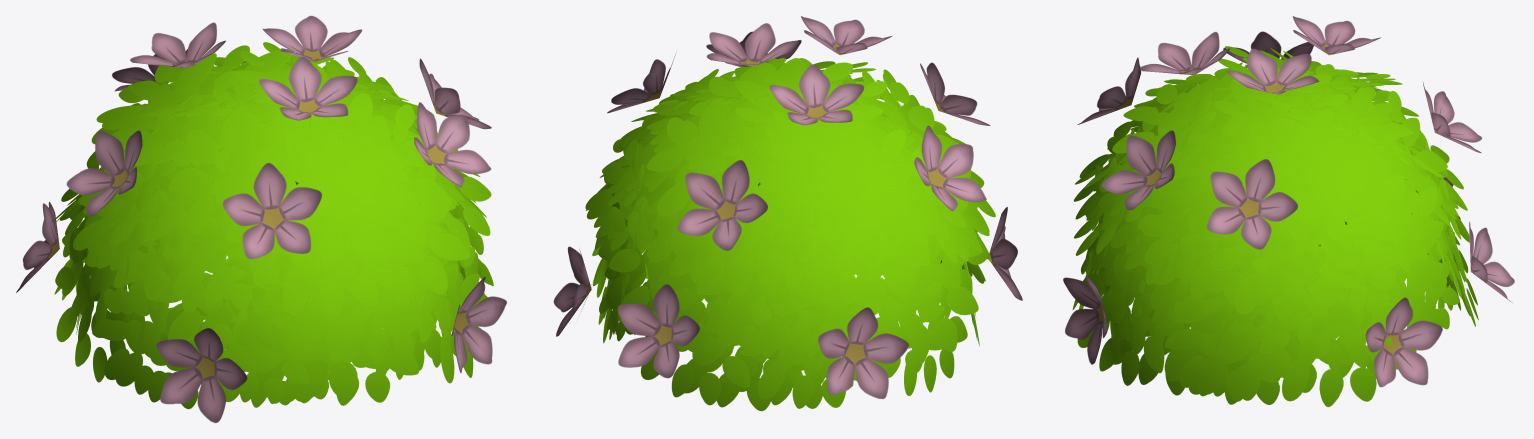
Rendered from estilizada-Bush_Flowers.glb.
3 views of the same model, side by side, from view 1: azimuth 30°, elevation 25°; view 2: azimuth 150°, elevation 25°; view 3: azimuth 270°, elevation 25° (orthographic). The views are drawn at different scales.
Visible parts, largest first — view 1: Bush_Flowers; view 2: Bush_Flowers; view 3: Bush_Flowers.
Boxes of the visible parts, x1,y1,x2,y2 form: Bush_Flowers: (16,15,506,422); Bush_Flowers: (553,16,1022,411); Bush_Flowers: (1063,16,1514,407).
Size of the model in its own units: 1.09 by 0.7585 by 1.11.
Materials: 2 (2 with a texture image).
